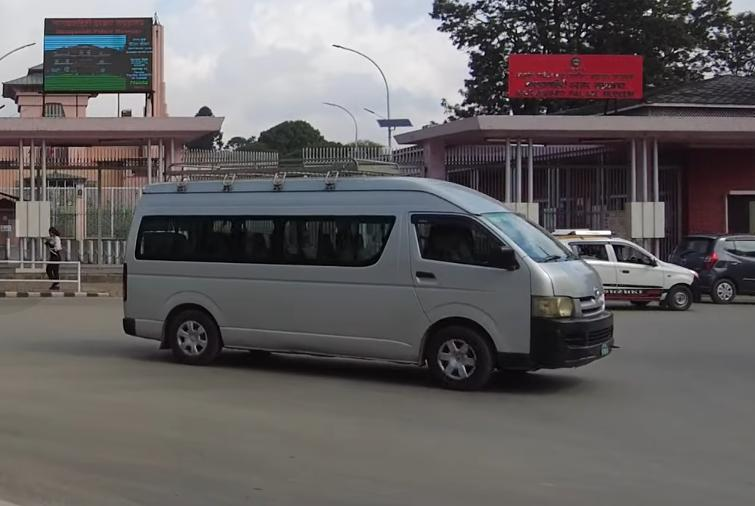car: (664, 228, 755, 305)
micro_bus: (118, 163, 619, 395)
taxi: (550, 220, 701, 317)
